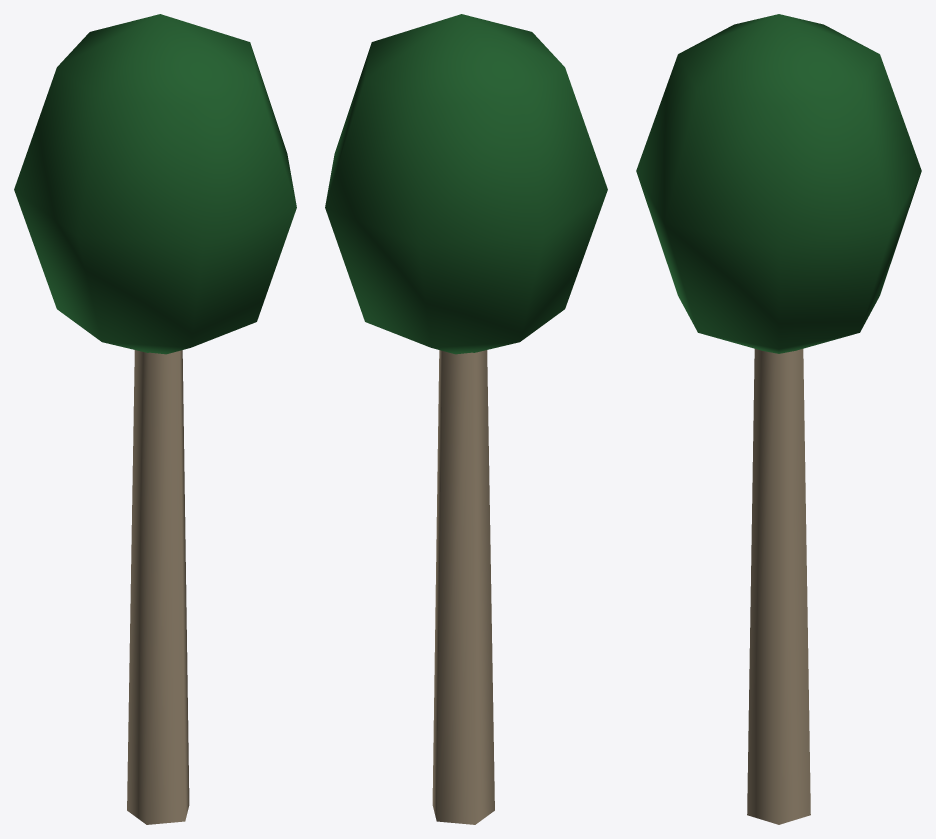
The model's file is tree_rubber.glb.
The picture shows the model from 3 angles, left to right: view 1: azimuth 30°, elevation 25°; view 2: azimuth 150°, elevation 25°; view 3: azimuth 270°, elevation 25°; orthographic projection.
Parts seen in each view (by area): view 1: tree_rubber; view 2: tree_rubber; view 3: tree_rubber.
Part boxes in pixels (bbox=[...]): tree_rubber: bbox=[14, 14, 296, 824]; tree_rubber: bbox=[325, 14, 607, 824]; tree_rubber: bbox=[636, 14, 921, 824].
Size of the model in its own units: 0.1597 by 0.504 by 0.1638.
